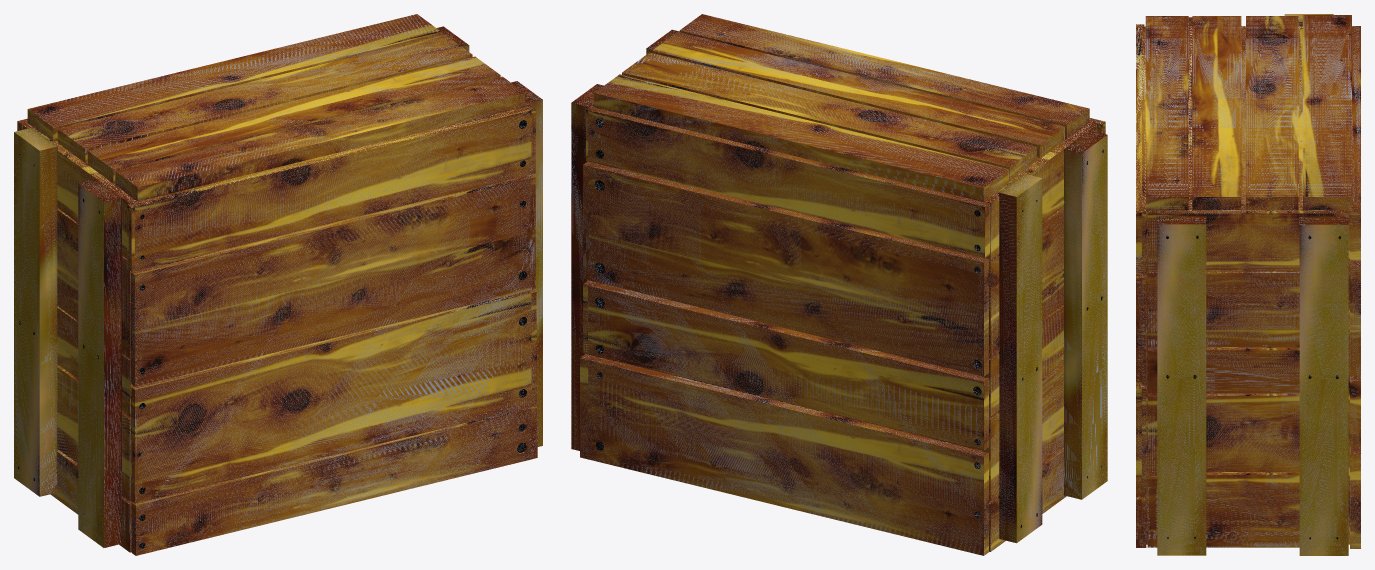
File: cratemodel.dae
3 renders of one model, left to right at view 1: azimuth 30°, elevation 25°; view 2: azimuth 150°, elevation 25°; view 3: azimuth 270°, elevation 25°, orthographic. The views are drawn at different scales.
Visible parts, largest first — view 1: SketchUp, board (×3); view 2: SketchUp, board (×3); view 3: SketchUp, board (×2).
Part boxes in pixels (x1,y1,x2,y2): SketchUp: (17, 14, 537, 555); board (×3): (14, 81, 542, 547); SketchUp: (580, 14, 1105, 555); board (×3): (571, 84, 1107, 543); SketchUp: (1136, 15, 1360, 548); board (×2): (1157, 216, 1348, 555).
Size of the model in its own units: 26.49 by 12.31 by 21.
6 materials, 3 textured.
